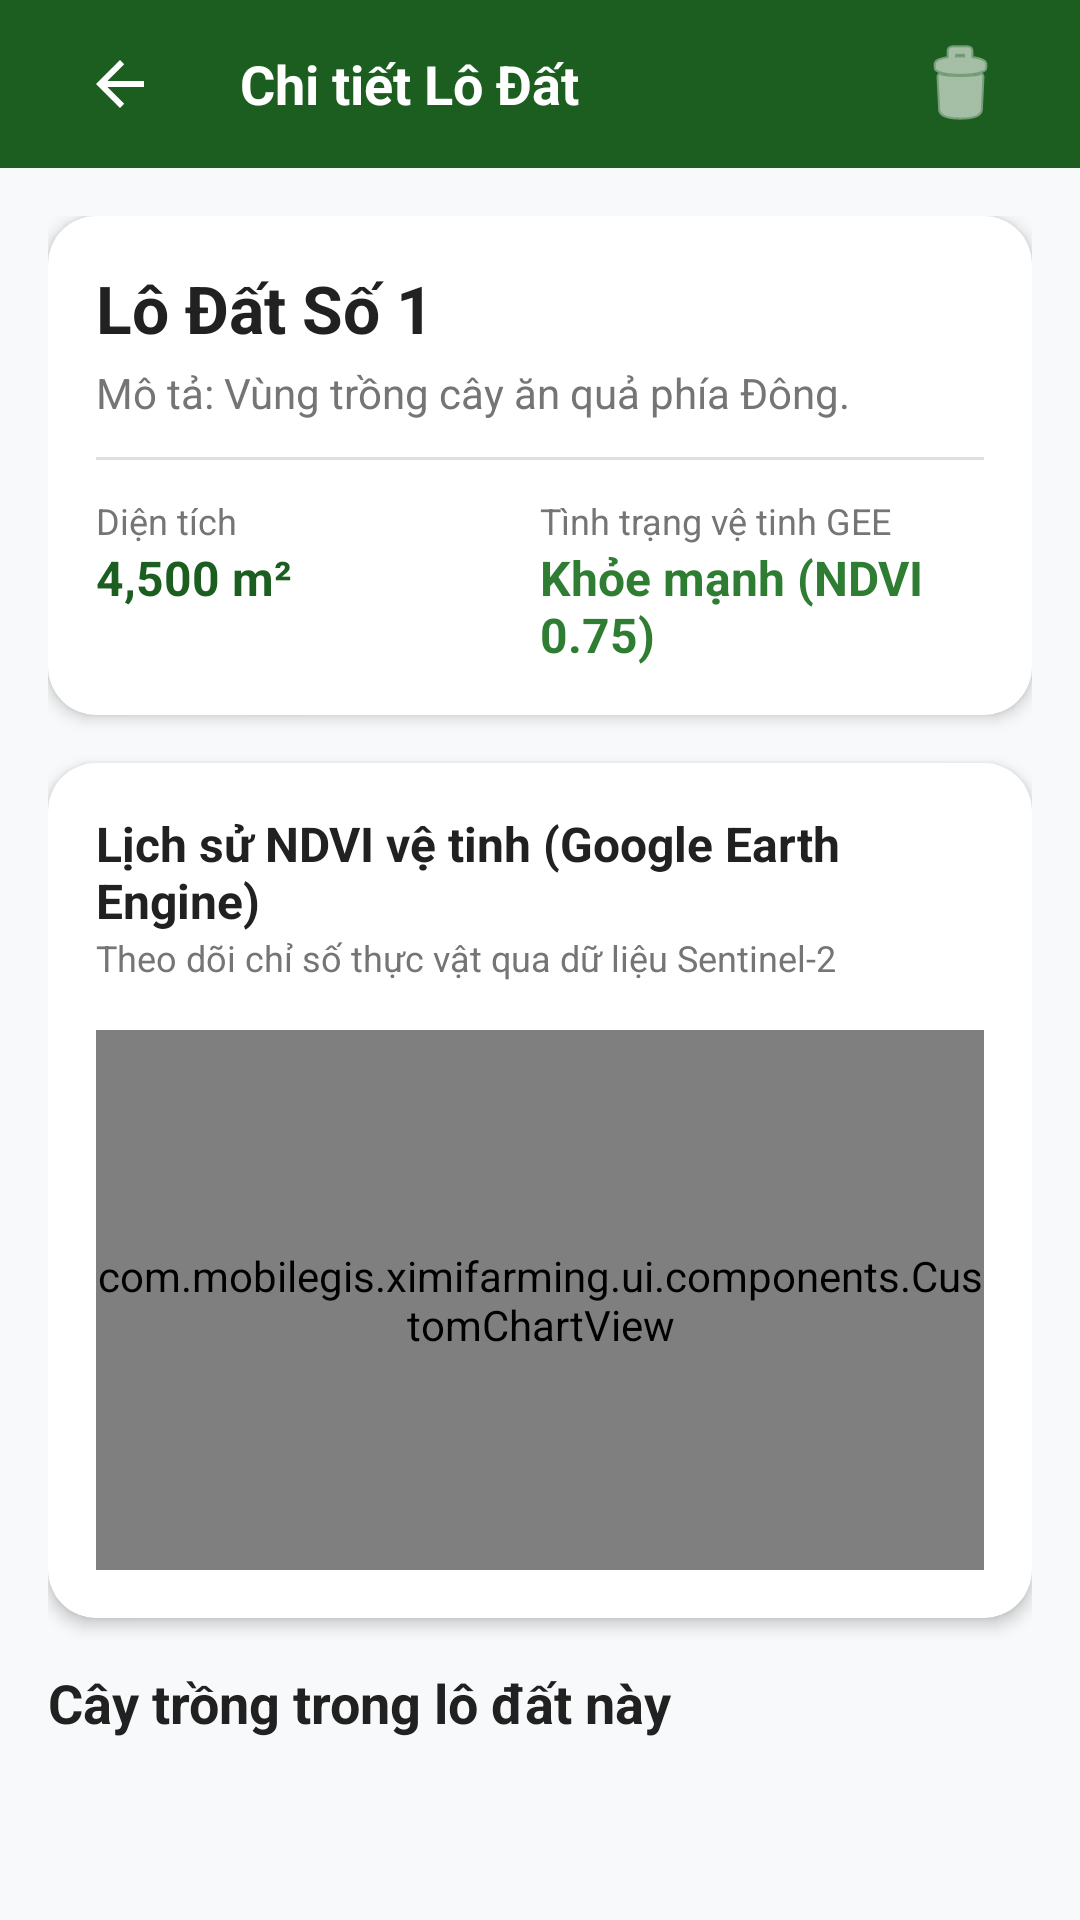

Screen size 1080*1920. Icon name, then its center in pixels as [x,y]:
Quay lại: [120,84]
Xóa lô đất: [960,82]
